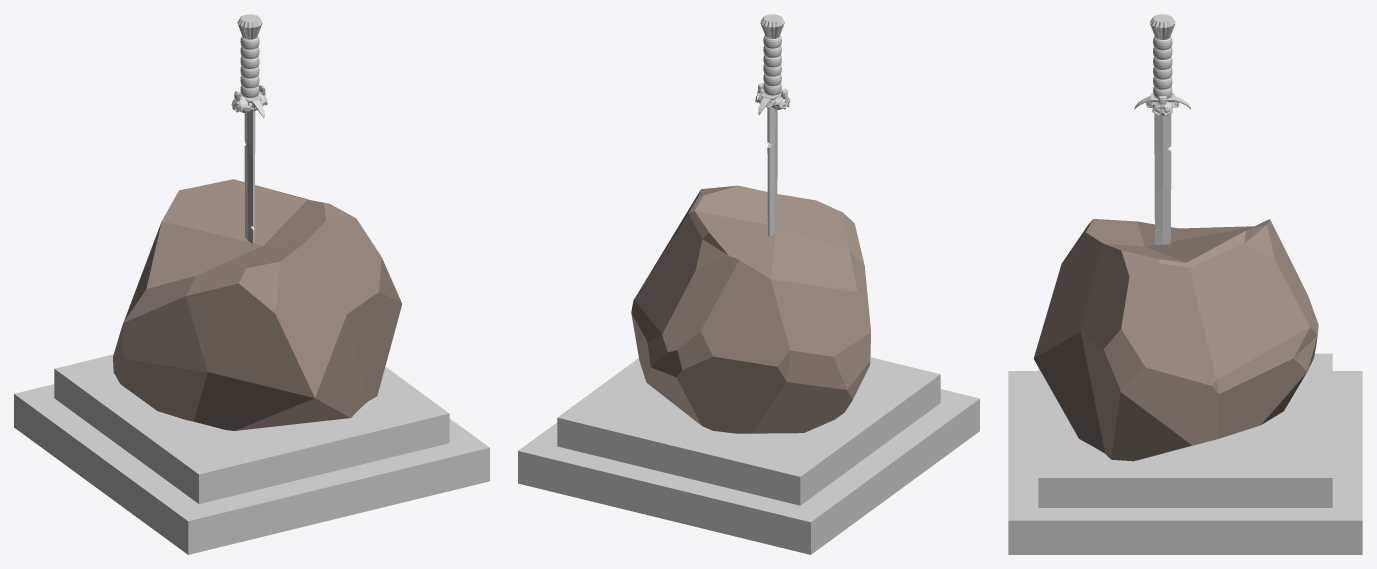
Rendered from miecz posag.fbx.
3 renders of one model, left to right at view 1: azimuth 30°, elevation 25°; view 2: azimuth 150°, elevation 25°; view 3: azimuth 270°, elevation 25°, orthographic. The views are drawn at different scales.
Visible parts, largest first — view 1: Cube.007, Plane.001, Torus.004; view 2: Plane.001, Cube.007, Torus.004; view 3: Cube.007, Plane.001, Torus.004.
Part boxes in pixels (left/top/right/bottom): Cube.007: left=113, top=179, right=401, bottom=430; Plane.001: left=14, top=354, right=489, bottom=554; Torus.004: left=231, top=14, right=267, bottom=243; Plane.001: left=518, top=357, right=979, bottom=554; Cube.007: left=631, top=185, right=870, bottom=433; Torus.004: left=755, top=14, right=790, bottom=236; Cube.007: left=1033, top=219, right=1318, bottom=461; Plane.001: left=1008, top=353, right=1362, bottom=554; Torus.004: left=1134, top=14, right=1190, bottom=244.
Size of the model in its own units: 467 by 663 by 467.
